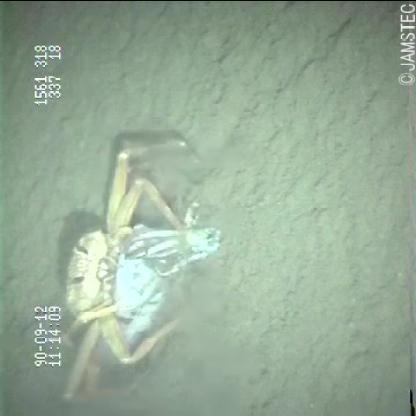Bio: (53, 134, 225, 406)
